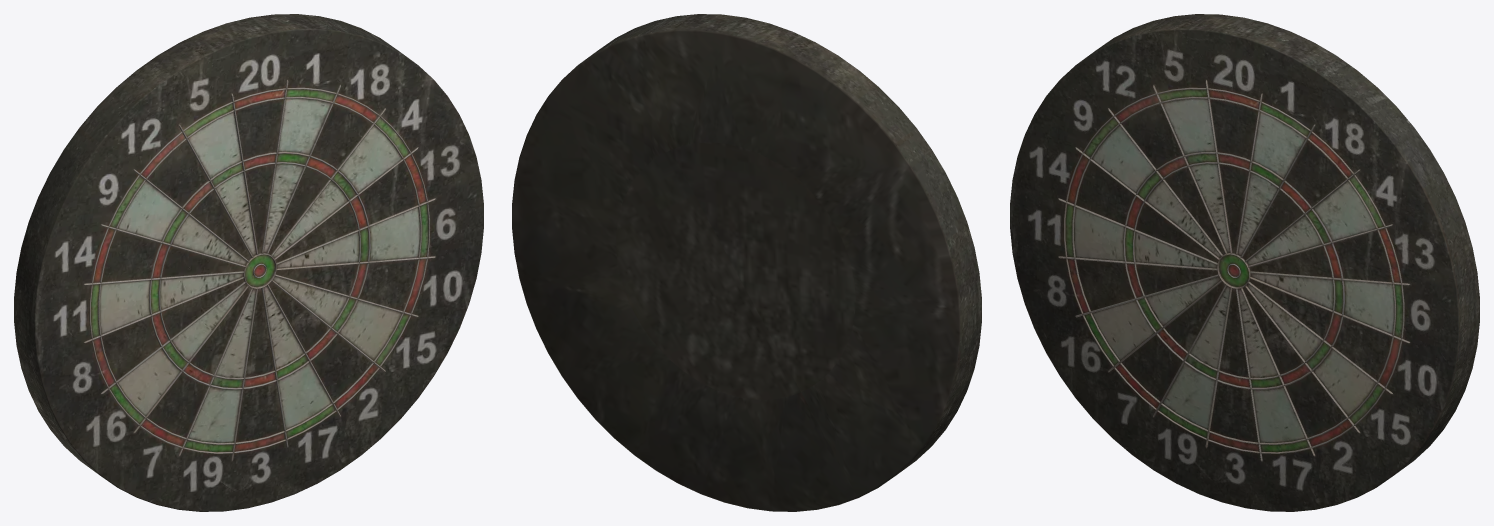
The model's file is dartboard.glb.
The picture shows the model from 3 angles, left to right: view 1: azimuth 30°, elevation 25°; view 2: azimuth 150°, elevation 25°; view 3: azimuth 330°, elevation 25°; orthographic projection.
Parts seen in each view (by area): view 1: dartboard; view 2: dartboard; view 3: dartboard.
Boxes of the visible parts, <box> form: dartboard: <box>14,14,483,511</box>; dartboard: <box>512,14,981,511</box>; dartboard: <box>1010,14,1479,511</box>.
Bounding box in the file's own units: 0.4507 × 0.4507 × 0.0398.
1 material, 1 textured.
